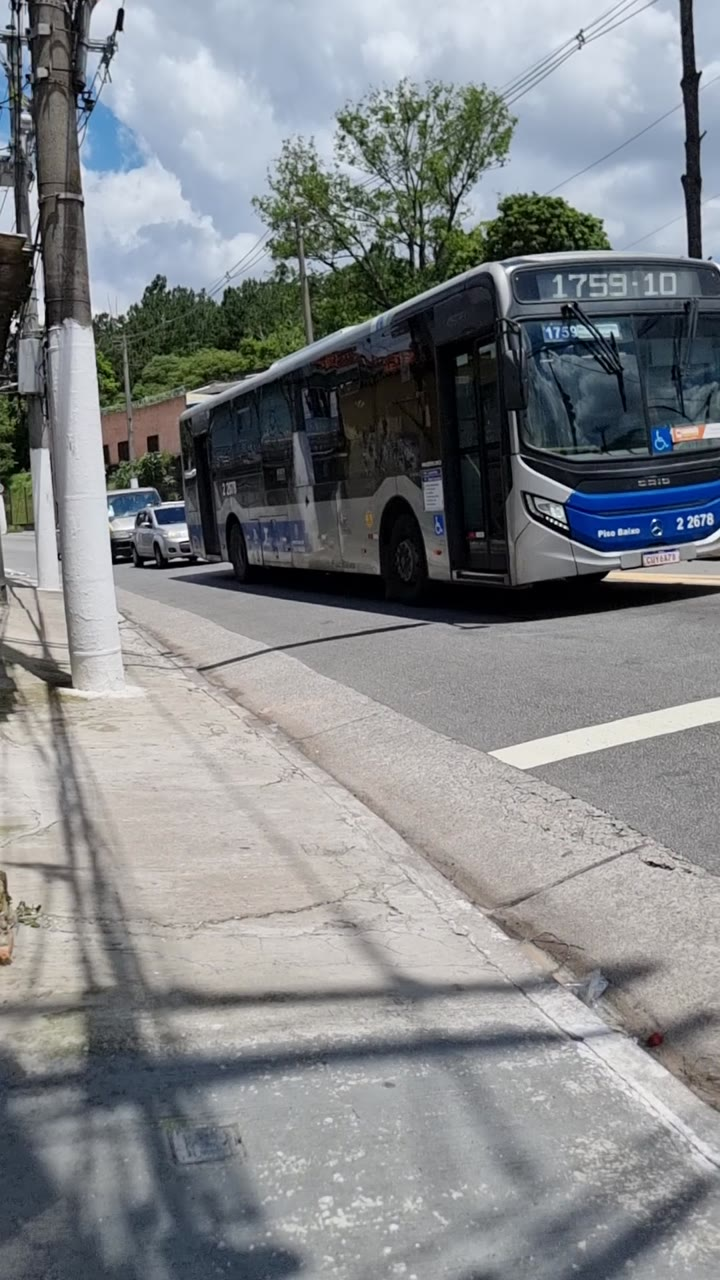obstaculo: (0, 0, 122, 691)
